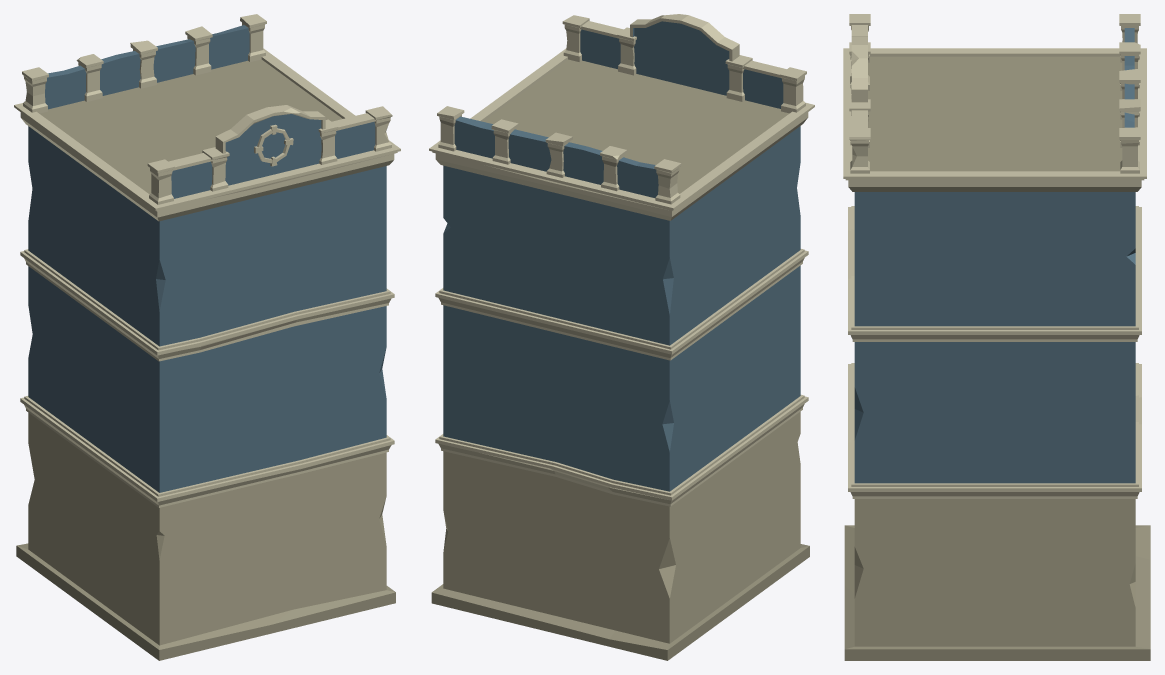
File: BuildingBase_7.fbx
3 views of the same model, side by side, from view 1: azimuth 30°, elevation 25°; view 2: azimuth 150°, elevation 25°; view 3: azimuth 270°, elevation 25° (orthographic). The views are drawn at different scales.
Visible parts, largest first — view 1: BuildingBase_7; view 2: BuildingBase_7; view 3: BuildingBase_7.
Boxes of the visible parts, <box> form: BuildingBase_7: <box>14,14,400,660</box>; BuildingBase_7: <box>429,14,814,660</box>; BuildingBase_7: <box>843,14,1150,660</box>.
Size of the model in its own units: 594 by 1195 by 601.
